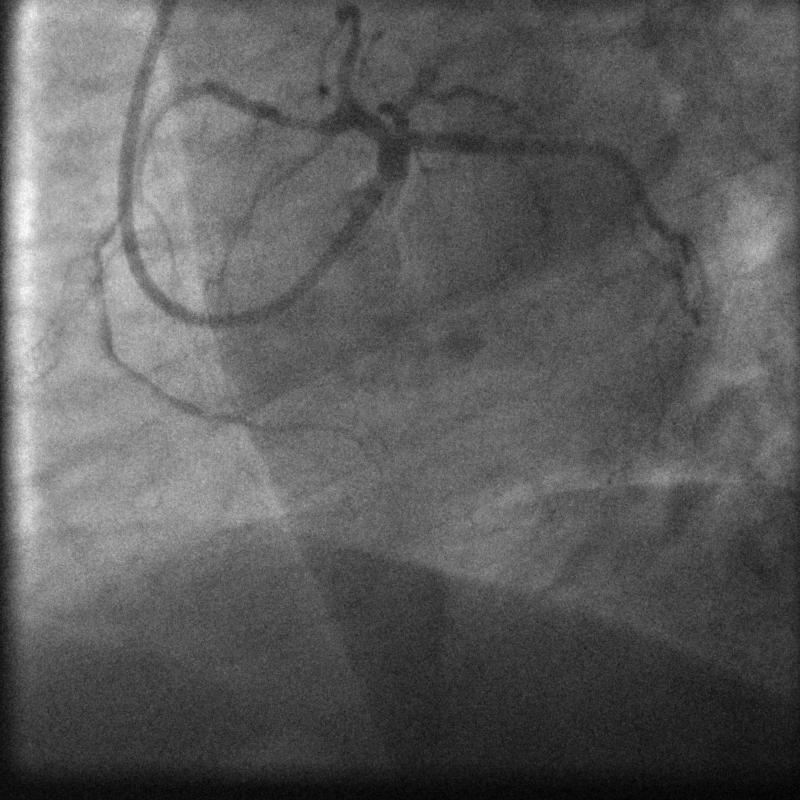Stenosis: (260, 94, 333, 145)
